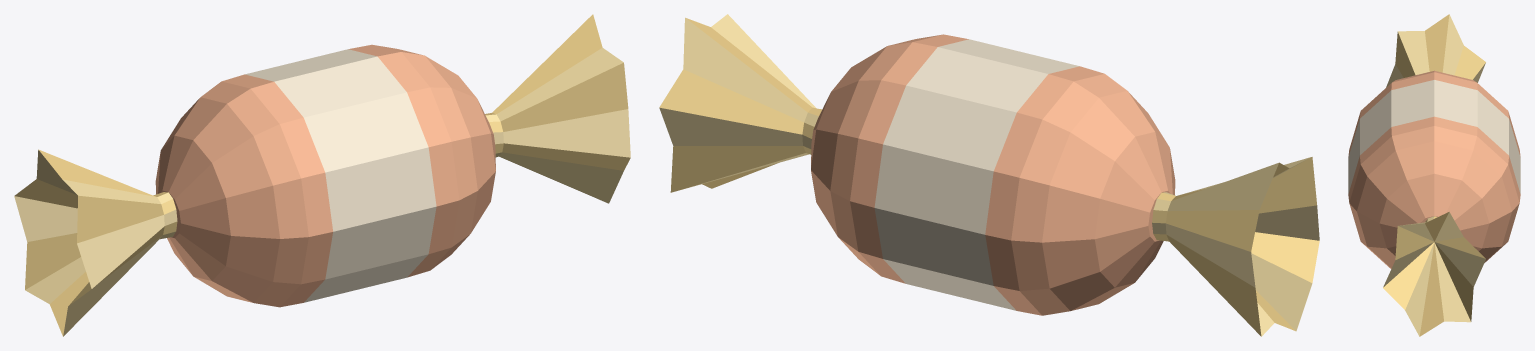
The model's file is candy.glb.
3 renders of one model, left to right at view 1: azimuth 30°, elevation 25°; view 2: azimuth 150°, elevation 25°; view 3: azimuth 270°, elevation 25°, orthographic. The views are drawn at different scales.
Visible parts, largest first — view 1: 01 蜜桃色十二边鼓形糖纸与米白色带; view 2: 01 蜜桃色十二边鼓形糖纸与米白色带; view 3: 01 蜜桃色十二边鼓形糖纸与米白色带.
Part boxes in pixels (x1=…): 01 蜜桃色十二边鼓形糖纸与米白色带: x1=14, y1=14, x2=630, y2=336; 01 蜜桃色十二边鼓形糖纸与米白色带: x1=659, y1=14, x2=1319, y2=336; 01 蜜桃色十二边鼓形糖纸与米白色带: x1=1348, y1=14, x2=1520, y2=336.
Size of the model in its own units: 0.7133 by 0.2623 by 0.2623.
